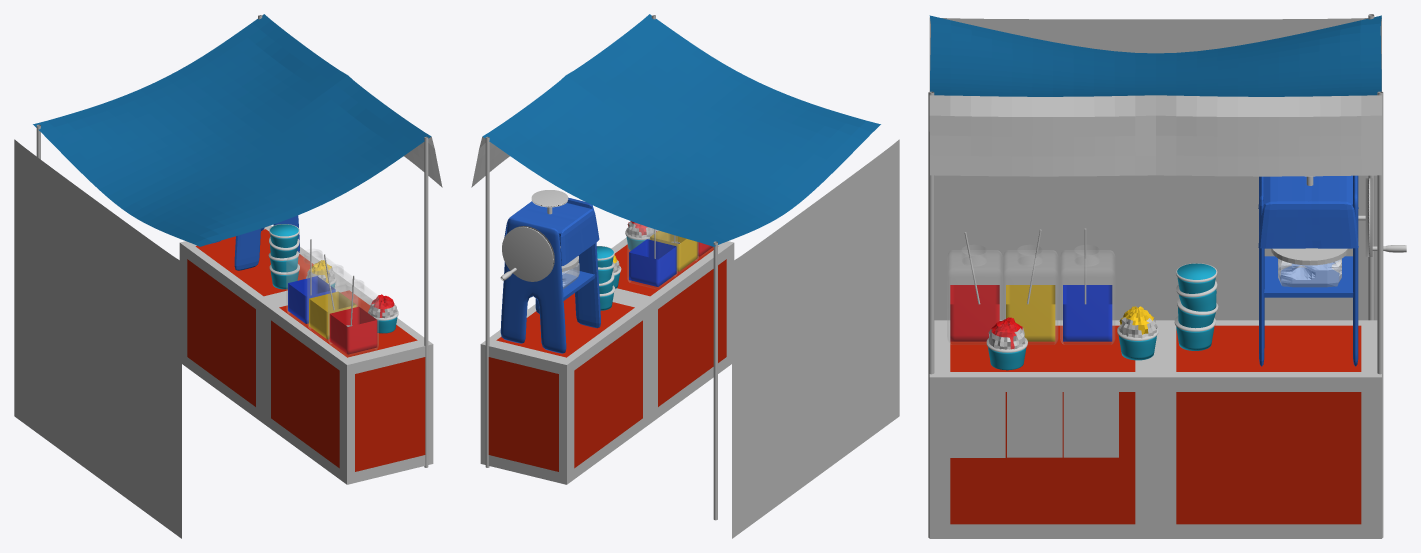
The model's file is teste_barraca.obj.
3 views of the same model, side by side, from view 1: azimuth 30°, elevation 25°; view 2: azimuth 150°, elevation 25°; view 3: azimuth 270°, elevation 25° (orthographic). The views are drawn at different scales.
Parts seen in each view (by area): view 1: 平面, 平面.001, 立方体.001, 立方体.002, 立方体.004, 立方体.006, 立方体.003, 円柱.001, 立方体.007, 立方体.005, 平面.003, 円柱.005 (+1 smaller); view 2: 平面, 平面.001, 立方体.001, 平面.002, 立方体.006, 平面.005, 円柱.010, 立方体.007, 平面.003, 円柱.001, 円柱.006, 立方体.005 (+3 smaller); view 3: 立方体.001, 平面, 平面.001, 平面.005, 立方体.006, 立方体.002, 立方体.004, kkgrplmn, kkgrpblhwi, kkgrpicg, 円柱.001, 平面.004 (+17 smaller).
Part boxes in pixels (x1,y1,x2,y2): 平面: (33,14,442,246); 平面.001: (14,139,181,538); 立方体.001: (179,225,433,484); 立方体.002: (328,280,378,356); 立方体.004: (307,265,357,341); 立方体.006: (286,249,336,325); 立方体.003: (329,306,377,354); 円柱.001: (258,15,428,467); 立方体.007: (288,276,335,323); 立方体.005: (309,291,356,339); 平面.003: (234,215,299,270); 円柱.005: (269,224,299,247); 平面: (471,14,880,246); 平面.001: (732,139,899,538); 立方体.001: (480,230,734,484); 平面.002: (500,218,566,353); 立方体.006: (627,223,677,288); 平面.005: (504,201,599,265); 円柱.010: (502,226,554,281); 立方体.007: (629,239,676,286); 平面.003: (535,197,600,328); 円柱.001: (485,15,655,467); 円柱.006: (713,241,717,520); 立方体.005: (650,230,697,271); 立方体.001: (929,320,1381,538); 平面: (929,15,1381,176); 平面.001: (929,17,1381,320); 平面.005: (1258,175,1358,248); 立方体.006: (1060,245,1114,344); 立方体.002: (947,245,1002,344); 立方体.004: (1003,245,1057,344); kkgrplmn: (1007,383,1062,457); kkgrpblhwi: (1063,383,1118,457); kkgrpicg: (950,384,1005,457); 円柱.001: (928,91,1383,538); 平面.004: (1264,256,1353,297).
Size of the model in its own units: 1.82 by 2.25 by 2.11.
